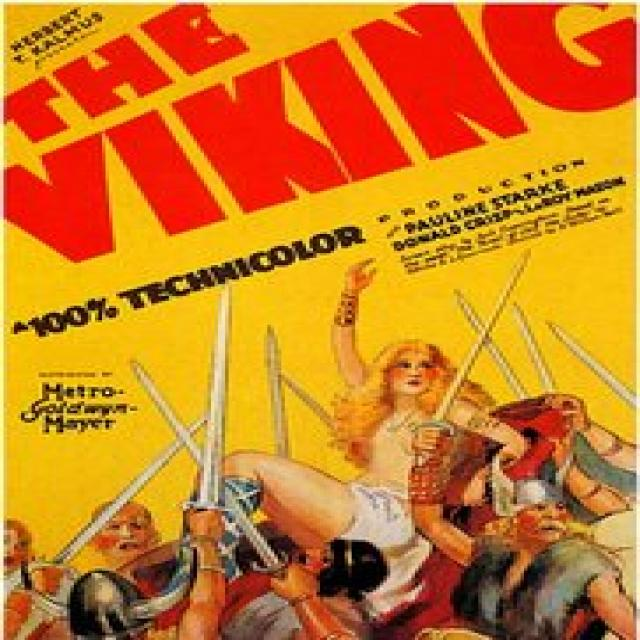movie-judul: (1, 0, 640, 314)
